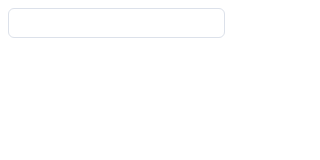
it: MaskedInput › передаёт префикс с литералами и ограничивает длину маской
Type "12" into the field named "Код" at (116, 23), box [17,8,216,38]
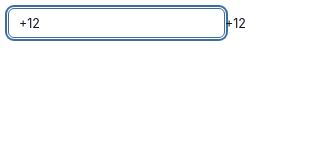
Type "a345" into the field named "Код" at (116, 23), box [17,8,216,38]
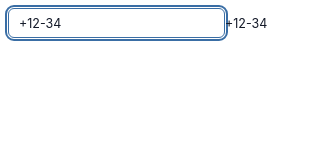
Check: the field named "Код" holds "+12-34", box [17,8,216,38]
